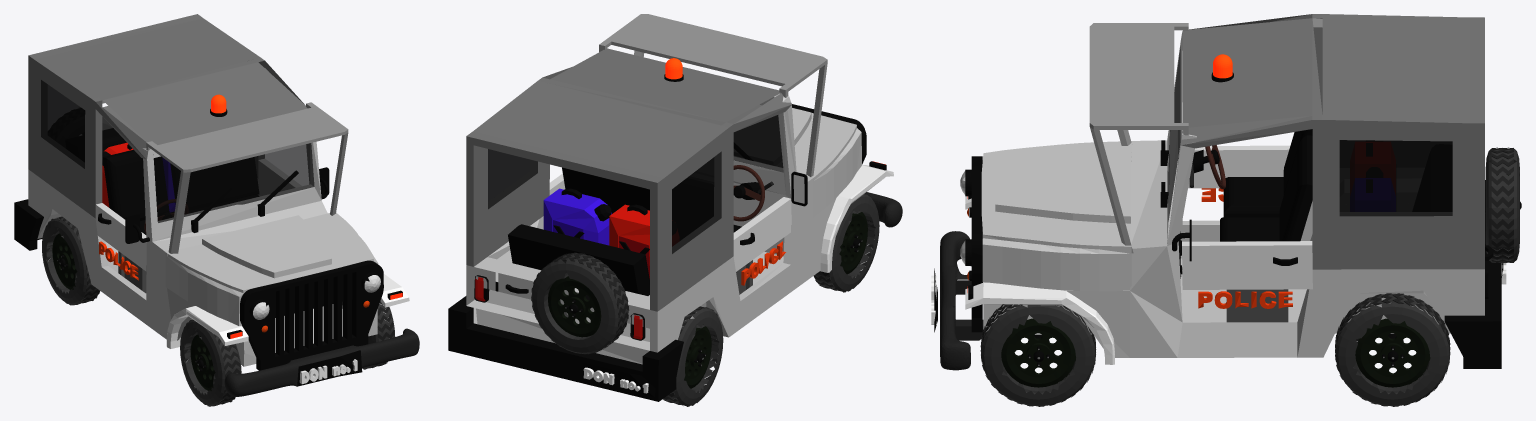
File: policejeep.glb
The picture shows the model from 3 angles, left to right: view 1: azimuth 30°, elevation 25°; view 2: azimuth 150°, elevation 25°; view 3: azimuth 270°, elevation 25°; orthographic projection. The views are drawn at different scales.
Visible parts, largest first — view 1: BODY, RIGHT FRONT WHEEL, BACK RIGHT WHEEL, LEFT FRONT WHEEL, Cube; view 2: BODY, BACK RIGHT WHEEL, RIGHT FRONT WHEEL, Cube.001, Cube, STEERING WHEEL; view 3: BODY, BACK LEFT WHEEL, LEFT FRONT WHEEL, STEERING WHEEL, Cylinder.
Boxes of the visible parts, <box> form: BODY: <box>14,14,419,396</box>; RIGHT FRONT WHEEL: <box>180,320,241,406</box>; BACK RIGHT WHEEL: <box>42,216,99,305</box>; LEFT FRONT WHEEL: <box>342,301,395,369</box>; Cube: <box>102,142,133,207</box>; BODY: <box>448,14,902,401</box>; BACK RIGHT WHEEL: <box>663,306,723,406</box>; RIGHT FRONT WHEEL: <box>813,193,879,292</box>; Cube.001: <box>543,188,611,245</box>; Cube: <box>609,204,649,279</box>; STEERING WHEEL: <box>733,165,764,221</box>; BODY: <box>931,14,1521,370</box>; BACK LEFT WHEEL: <box>1335,293,1450,406</box>; LEFT FRONT WHEEL: <box>980,304,1096,406</box>; STEERING WHEEL: <box>1203,145,1225,189</box>; Cylinder: <box>1211,54,1233,82</box>.
Bounding box in the file's own units: 2.06 × 2.28 × 4.05.
